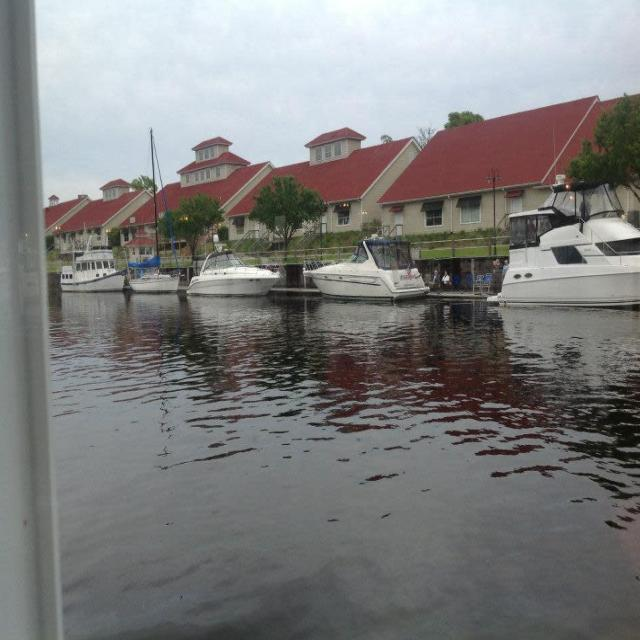houseboat: (494, 204, 640, 313), (306, 231, 422, 302), (181, 243, 277, 299), (56, 245, 121, 292)
sailboat: (126, 122, 180, 294)
